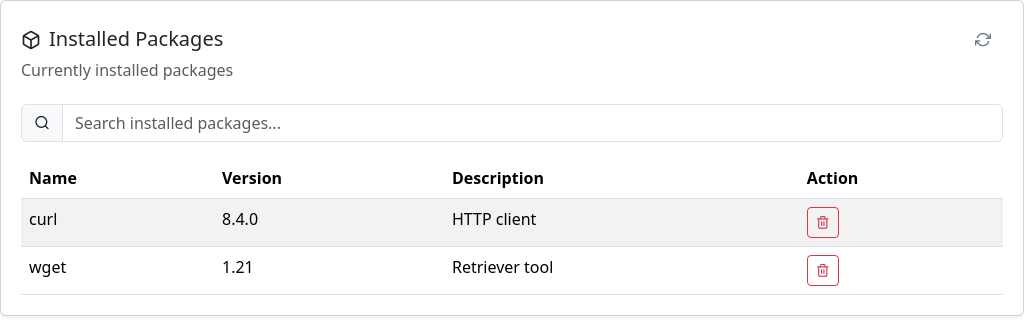
Test: InstalledPackagesCard › filters the loaded list by name or description, debounced
Type "http" into the field with placeholder "Search installed packages...". click: (532, 123)
box: [62,104,1003,142]
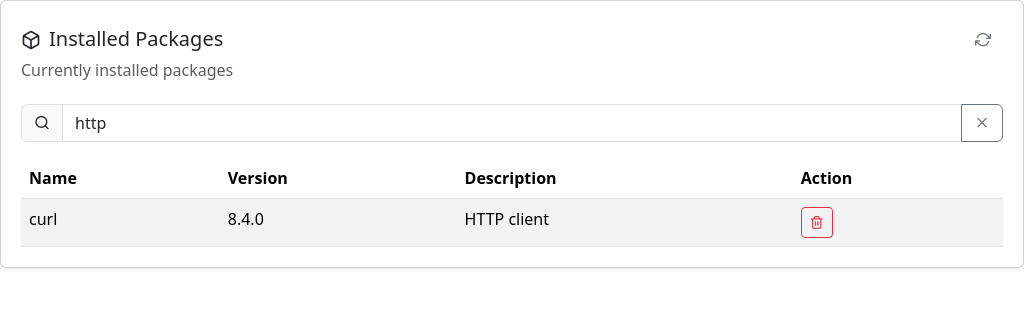
Expected: the text "curl" is shown, [21,199,220,247]
Now the text "wget" is gone
